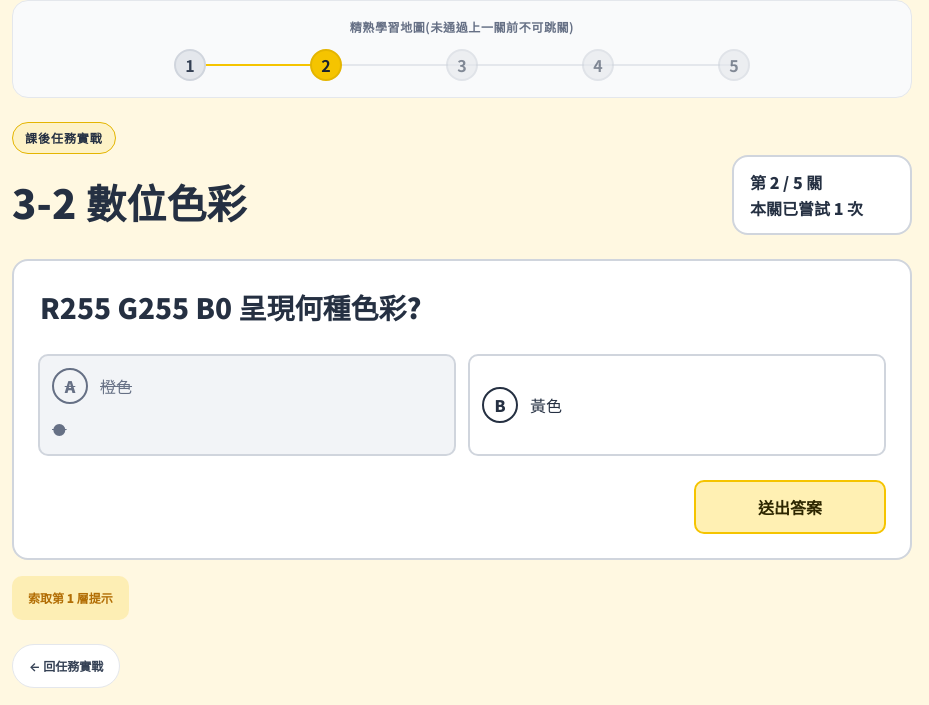
Scenario: MissionPage › shows a tri-spirit mentor on the correct-answer feedback card
The image size is (929, 705).
# 沿用檔內既有 render + 答題流程:選正確選項→送出→出現「✓ 答對了」
What coordinates should you click on to do the following:
click the radio button labelled "B 黃色"
I would click on:
 (500, 405)
Its box is [468,354,886,456].
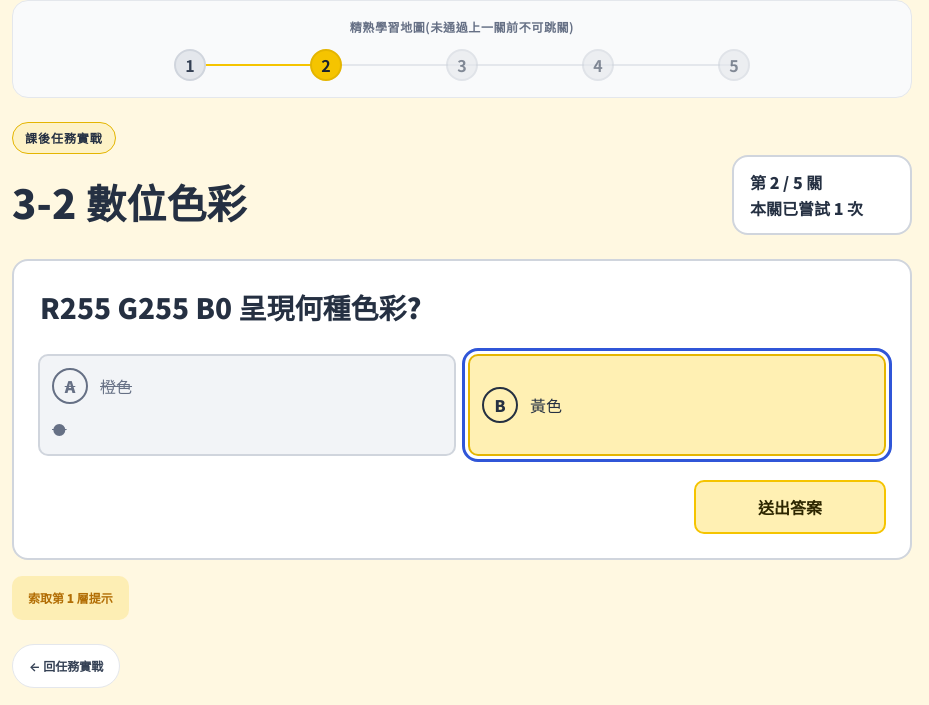
What coordinates should you click on to do the following:
click the button "送出答案"
I would click on:
 (790, 507)
Its box is [694,480,886,534].
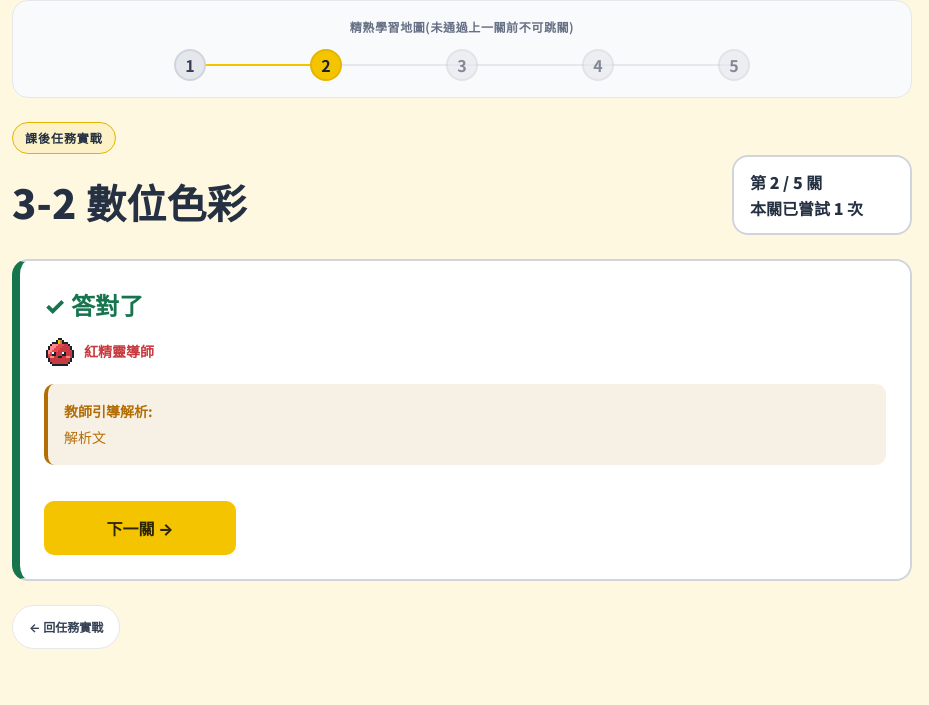
Result: the heading "✓ 答對了" is shown at [44,286,143,322]
Result: the text "紅精靈導師" is shown at [84,340,154,363]
